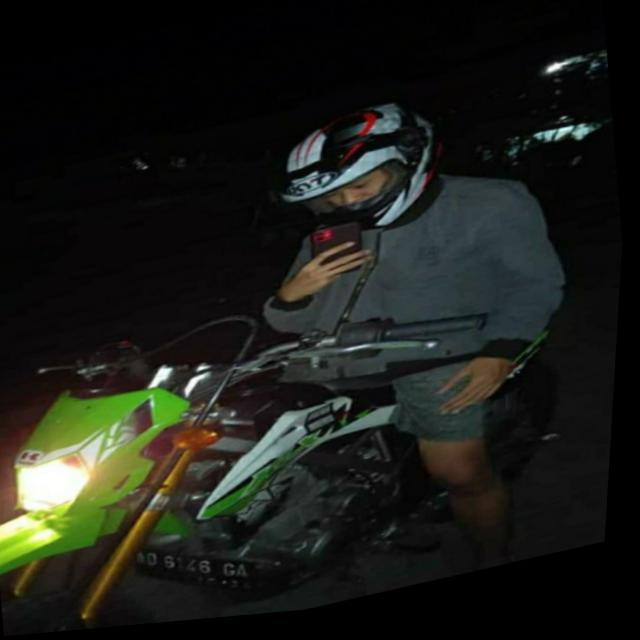Helmet: (262, 86, 451, 247)
